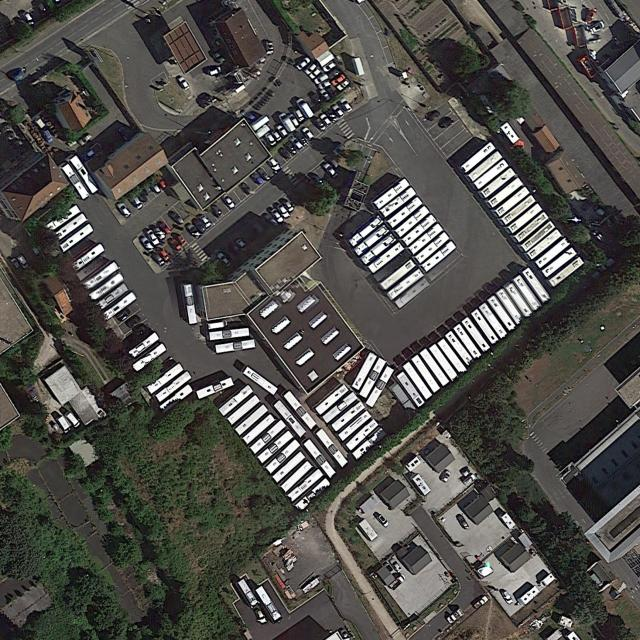large-vehicle: (302, 437, 337, 479), (284, 390, 318, 430), (316, 427, 349, 468), (287, 467, 324, 503), (257, 429, 295, 464), (249, 419, 287, 454), (273, 399, 307, 438), (265, 439, 301, 475), (360, 231, 397, 266), (365, 365, 395, 408), (69, 154, 100, 195), (295, 477, 331, 512), (520, 219, 557, 253), (387, 267, 424, 301), (146, 362, 184, 395), (346, 215, 384, 248), (420, 348, 451, 388), (421, 239, 457, 273), (500, 194, 537, 227), (460, 140, 497, 173), (487, 176, 524, 209), (494, 185, 531, 218), (380, 258, 417, 291), (353, 223, 390, 256), (386, 196, 423, 229), (337, 409, 373, 442), (322, 391, 358, 424), (468, 150, 504, 183), (507, 202, 543, 235), (218, 384, 254, 417), (415, 231, 451, 264), (408, 223, 444, 256), (394, 205, 430, 238), (155, 371, 192, 403), (88, 271, 125, 303), (368, 241, 405, 273), (401, 214, 438, 246), (380, 186, 417, 218), (373, 177, 410, 209), (461, 316, 492, 354), (411, 354, 441, 393), (403, 362, 433, 401), (352, 427, 387, 460), (271, 451, 306, 484), (473, 158, 509, 190), (394, 277, 430, 309), (359, 357, 387, 398), (534, 237, 571, 268), (438, 338, 468, 376), (487, 294, 517, 332), (315, 383, 350, 415), (514, 211, 549, 243), (226, 394, 261, 426), (330, 401, 366, 432), (480, 168, 516, 199), (526, 229, 562, 260), (542, 248, 578, 279), (243, 365, 279, 396), (131, 342, 167, 373), (82, 261, 119, 291), (44, 204, 81, 234), (350, 351, 378, 390), (346, 418, 379, 451), (281, 460, 314, 493), (235, 404, 269, 436), (549, 257, 584, 288), (159, 383, 194, 414), (70, 242, 106, 272), (429, 344, 458, 381), (471, 308, 500, 345), (479, 302, 508, 339), (242, 414, 276, 445), (102, 291, 137, 321), (59, 223, 94, 253), (52, 213, 87, 243), (445, 330, 474, 366), (454, 324, 482, 361), (397, 371, 425, 408), (513, 275, 542, 310), (496, 287, 524, 323), (523, 267, 551, 303), (255, 585, 282, 622), (62, 163, 89, 200), (196, 376, 235, 401), (506, 283, 533, 318), (128, 331, 160, 360), (97, 283, 129, 310), (76, 256, 106, 282), (183, 284, 198, 325), (216, 339, 256, 354), (238, 578, 259, 606), (209, 327, 250, 341), (500, 121, 521, 144)
small-vehicle: (277, 110, 297, 135), (296, 96, 316, 120), (249, 113, 271, 133), (115, 199, 133, 220), (63, 410, 81, 429), (295, 55, 315, 72), (145, 227, 161, 248), (389, 573, 407, 591), (322, 161, 339, 180), (307, 65, 325, 82), (275, 201, 292, 219), (56, 415, 72, 434), (249, 170, 265, 189), (270, 205, 286, 224), (140, 234, 155, 254), (267, 154, 282, 174), (151, 223, 167, 241), (176, 74, 191, 93), (192, 216, 207, 235), (216, 251, 232, 268), (294, 131, 310, 148), (280, 196, 295, 214), (168, 236, 183, 254), (289, 134, 304, 152), (312, 115, 327, 133), (301, 126, 316, 144), (222, 192, 236, 211), (292, 105, 306, 124), (11, 67, 27, 83), (132, 324, 148, 340), (118, 126, 133, 143), (589, 20, 606, 35), (25, 385, 40, 402), (170, 210, 185, 227), (277, 146, 292, 163), (326, 66, 343, 81), (331, 103, 346, 120), (130, 193, 144, 211), (257, 165, 271, 183), (339, 96, 353, 114), (600, 257, 616, 272), (263, 213, 279, 228), (126, 314, 142, 329), (473, 595, 489, 610), (157, 246, 172, 262), (322, 59, 338, 74), (331, 72, 347, 87), (333, 142, 348, 158), (456, 514, 470, 531), (254, 608, 268, 625), (313, 71, 330, 85), (284, 141, 298, 158), (186, 222, 200, 239), (326, 108, 340, 125), (287, 111, 301, 128), (77, 132, 92, 147), (116, 308, 131, 323), (336, 78, 351, 93), (148, 179, 162, 195), (389, 557, 403, 573), (239, 181, 253, 197), (211, 202, 224, 219), (153, 250, 166, 267), (276, 122, 289, 139), (264, 130, 277, 147), (206, 320, 228, 330), (140, 182, 154, 197), (303, 62, 318, 76), (155, 174, 168, 190), (136, 188, 149, 204), (199, 213, 212, 229), (159, 220, 172, 236), (317, 79, 333, 92), (319, 112, 332, 128), (463, 473, 477, 487), (376, 514, 390, 528), (17, 255, 30, 270), (440, 117, 455, 130), (502, 590, 515, 605), (319, 89, 332, 104), (206, 65, 222, 77), (235, 238, 248, 252), (42, 129, 54, 144), (23, 12, 35, 27), (271, 128, 283, 143), (427, 110, 441, 122), (176, 234, 188, 248), (281, 55, 296, 66), (249, 99, 262, 111), (258, 91, 271, 103), (262, 87, 276, 98), (10, 257, 21, 270), (254, 96, 267, 107), (441, 470, 452, 483), (585, 10, 595, 24), (272, 76, 283, 88), (384, 562, 395, 574), (311, 93, 322, 105), (266, 39, 274, 54), (461, 468, 472, 478)
